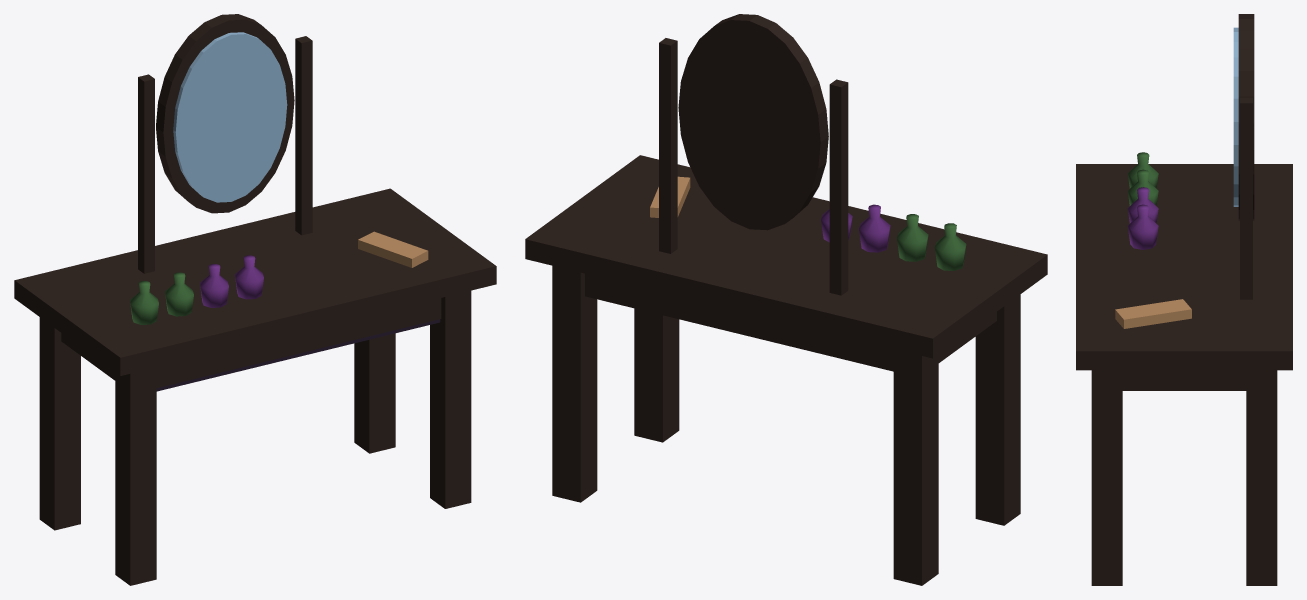
Rendered from dressing_table.glb.
3 views of the same model, side by side, from view 1: azimuth 30°, elevation 25°; view 2: azimuth 150°, elevation 25°; view 3: azimuth 270°, elevation 25° (orthographic). The views are drawn at different scales.
Visible parts, largest first — view 1: dressing_table; view 2: dressing_table; view 3: dressing_table.
Part boxes in pixels (<box>): dressing_table: <box>14,14,496,585</box>; dressing_table: <box>525,14,1047,585</box>; dressing_table: <box>1076,14,1292,585</box>.
Size of the model in its own units: 0.86 by 1.03 by 0.42.
